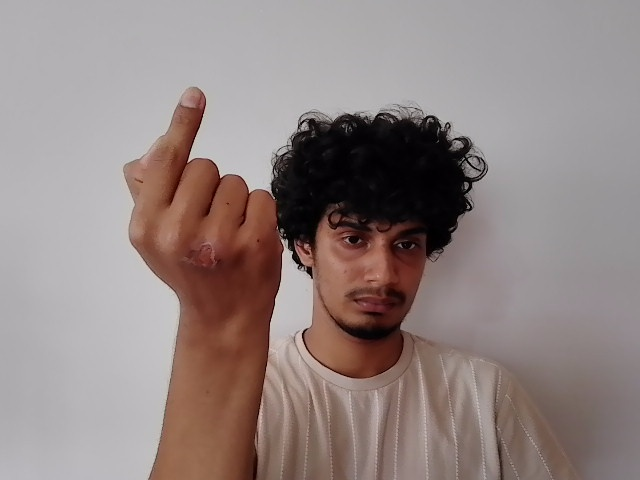just: (118, 86, 299, 298)
